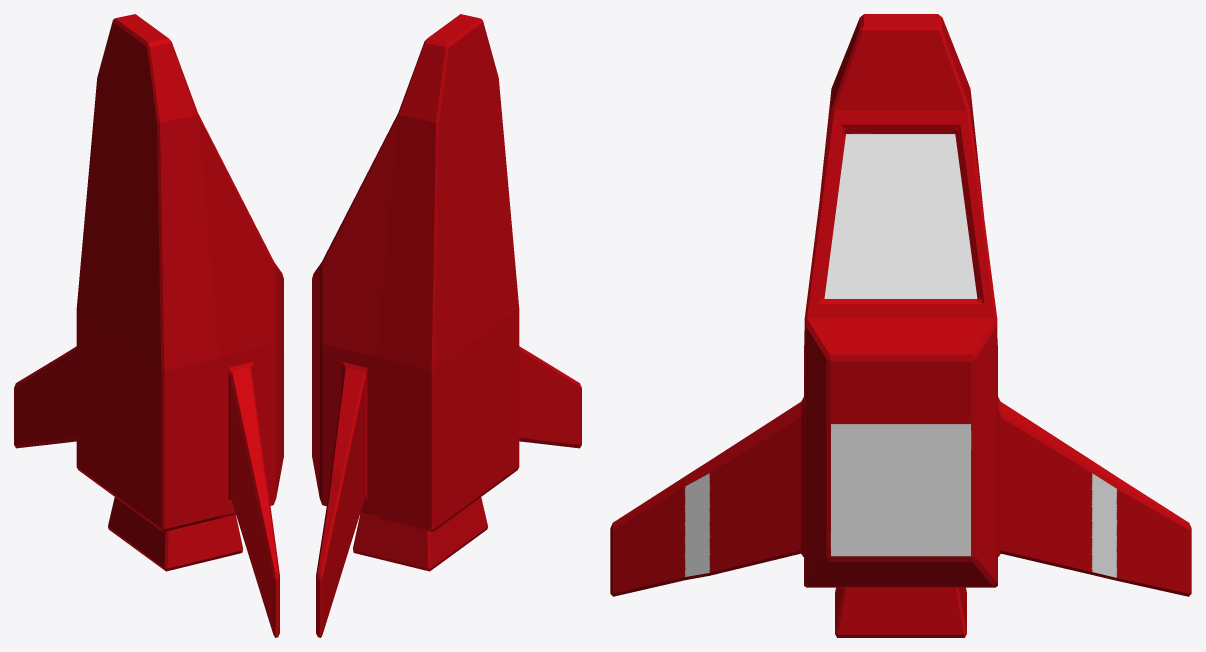
File: RedShip41.fbx
3 renders of one model, left to right at view 1: azimuth 30°, elevation 25°; view 2: azimuth 150°, elevation 25°; view 3: azimuth 270°, elevation 25°, orthographic. The views are drawn at different scales.
Visible parts, largest first — view 1: Cube.001; view 2: Cube.001; view 3: Cube.001.
Part boxes in pixels (<box>): Cube.001: <box>14,14,283,637</box>; Cube.001: <box>312,14,581,637</box>; Cube.001: <box>610,14,1191,637</box>.
Size of the model in its own units: 235 by 882 by 802.
Materials: 1 (1 with a texture image).
